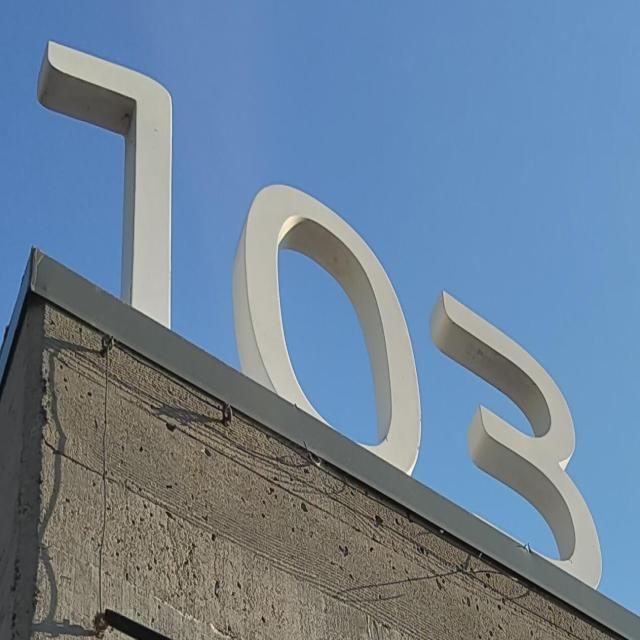character: (239, 177, 426, 489), (436, 280, 609, 601), (44, 35, 180, 337)
